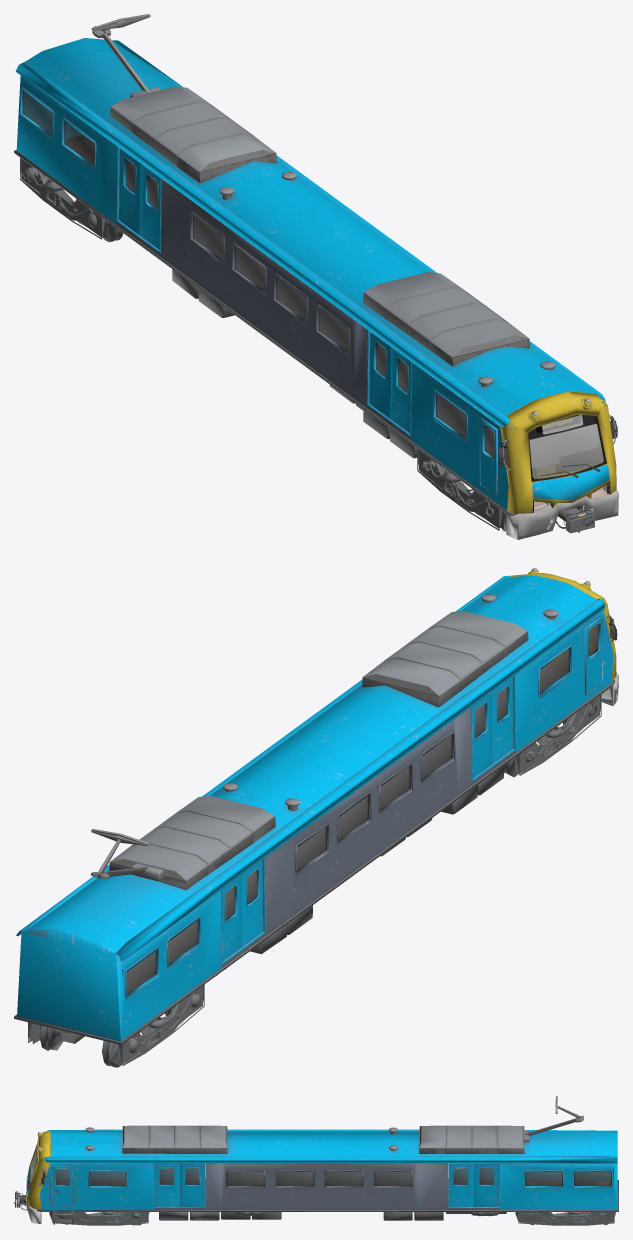
Rendered from metro_train.glb.
3 views of the same model, one above another, from view 1: azimuth 30°, elevation 25°; view 2: azimuth 150°, elevation 25°; view 3: azimuth 270°, elevation 25° (orthographic). The views are drawn at different scales.
Visible parts, largest first — view 1: train_0; view 2: train_0; view 3: train_0.
Boxes of the visible parts, left/top/right/bottom form: train_0: left=14, top=14, right=618, bottom=539; train_0: left=14, top=568, right=618, bottom=1067; train_0: left=14, top=1096, right=618, bottom=1225.
Size of what is drawn, in the model's own units: 70.22 by 110 by 529.
8 materials, 6 textured.
